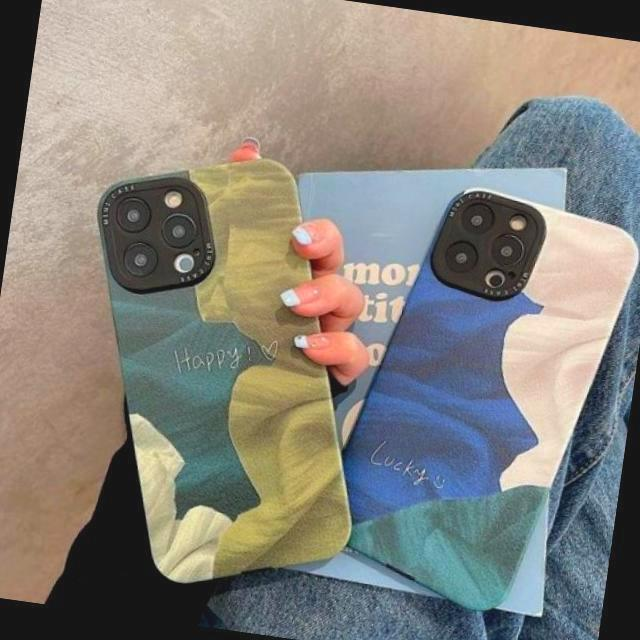lens: (428, 194, 538, 298), (105, 186, 208, 286)
phone: (331, 186, 628, 604), (92, 159, 346, 583)
